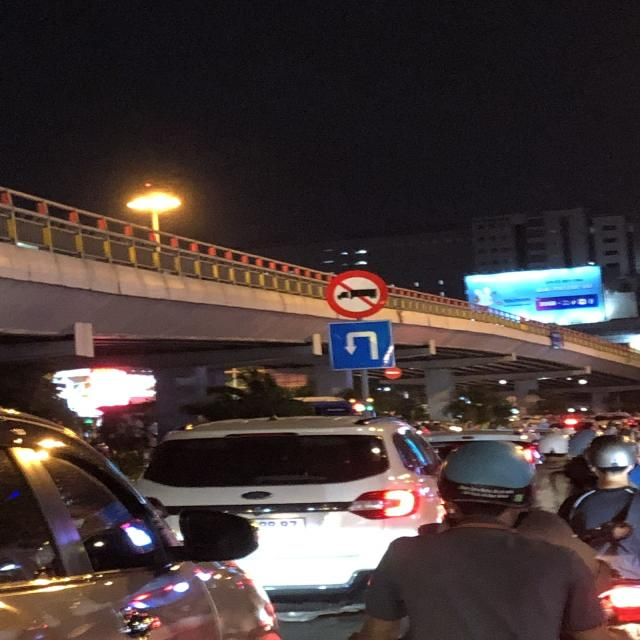Bien bao cam xe so-mi ro-mooc: (317, 265, 395, 323)
